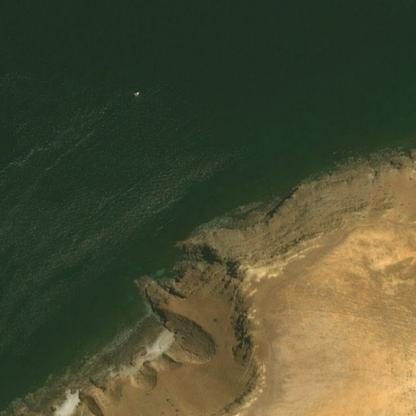ship: (128, 86, 142, 98)
